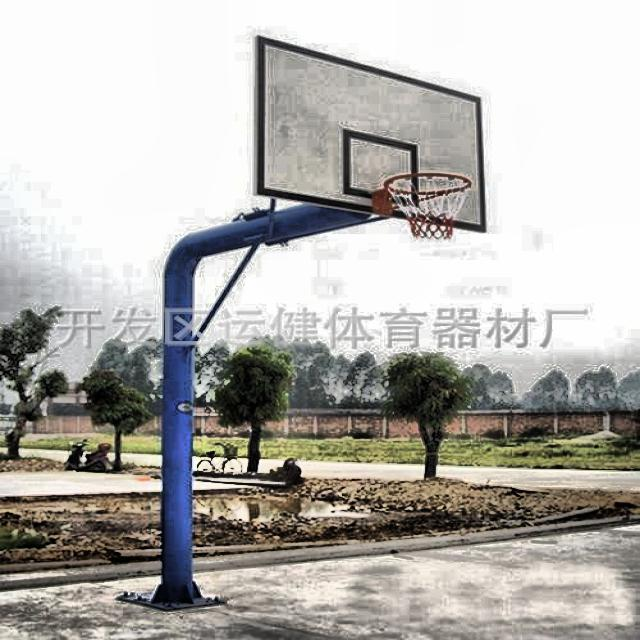rim: (382, 172, 473, 240)
